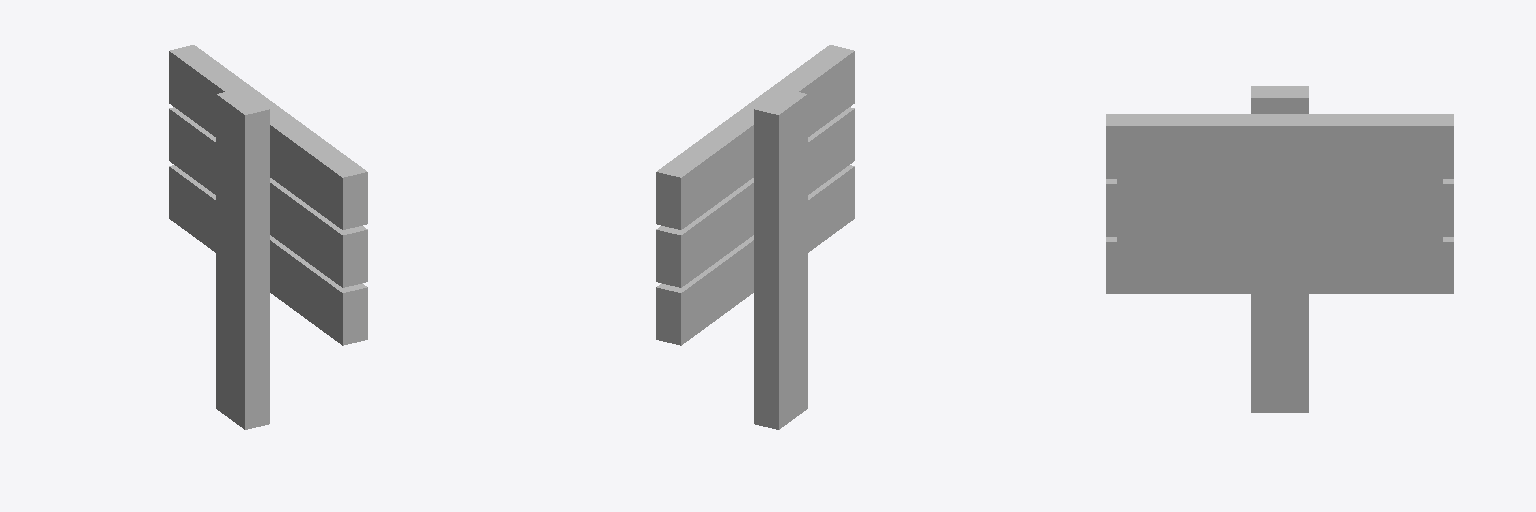
Rendered from signpost.obj.
The picture shows the model from 3 angles: view 1: azimuth 30°, elevation 25°; view 2: azimuth 150°, elevation 25°; view 3: azimuth 270°, elevation 25°; orthographic projection.
Visible parts, largest first — view 1: Cube; view 2: Cube; view 3: Cube.
Boxes of the visible parts, box(x1,y1,x2,y2) form: Cube: box(169, 45, 367, 429); Cube: box(656, 45, 854, 429); Cube: box(1106, 86, 1453, 412).
Bounding box in the file's own units: 0.203 × 1.2 × 1.2.